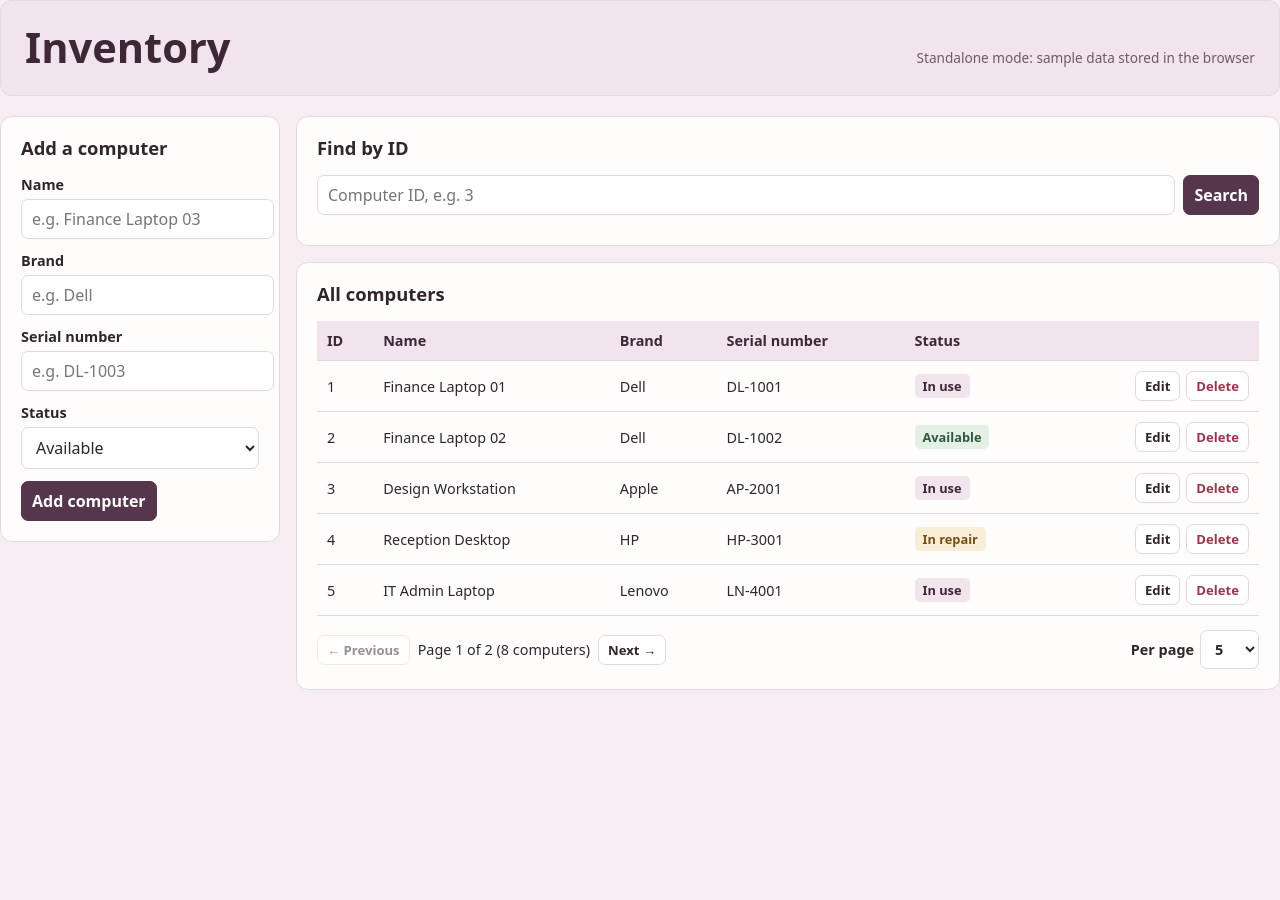
it: Inventory page (standalone mode) › goes back a page when the last item on the last page is deleted
Click the button "Next →". click: (632, 650)
box: [598,635,666,665]
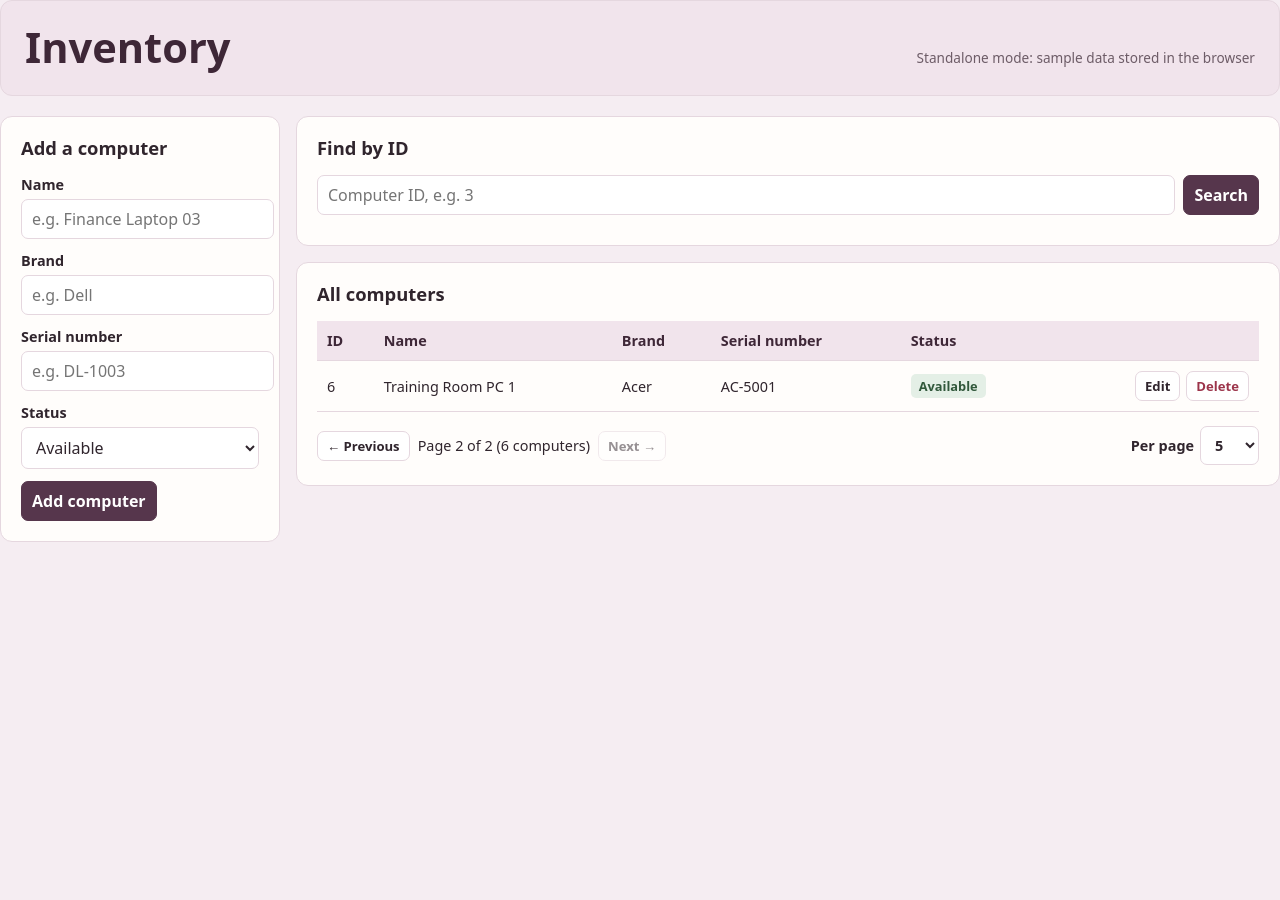
Click the button with aria-label "Delete Training Room PC 1". click: (1218, 386)
box: [1186,371,1249,401]
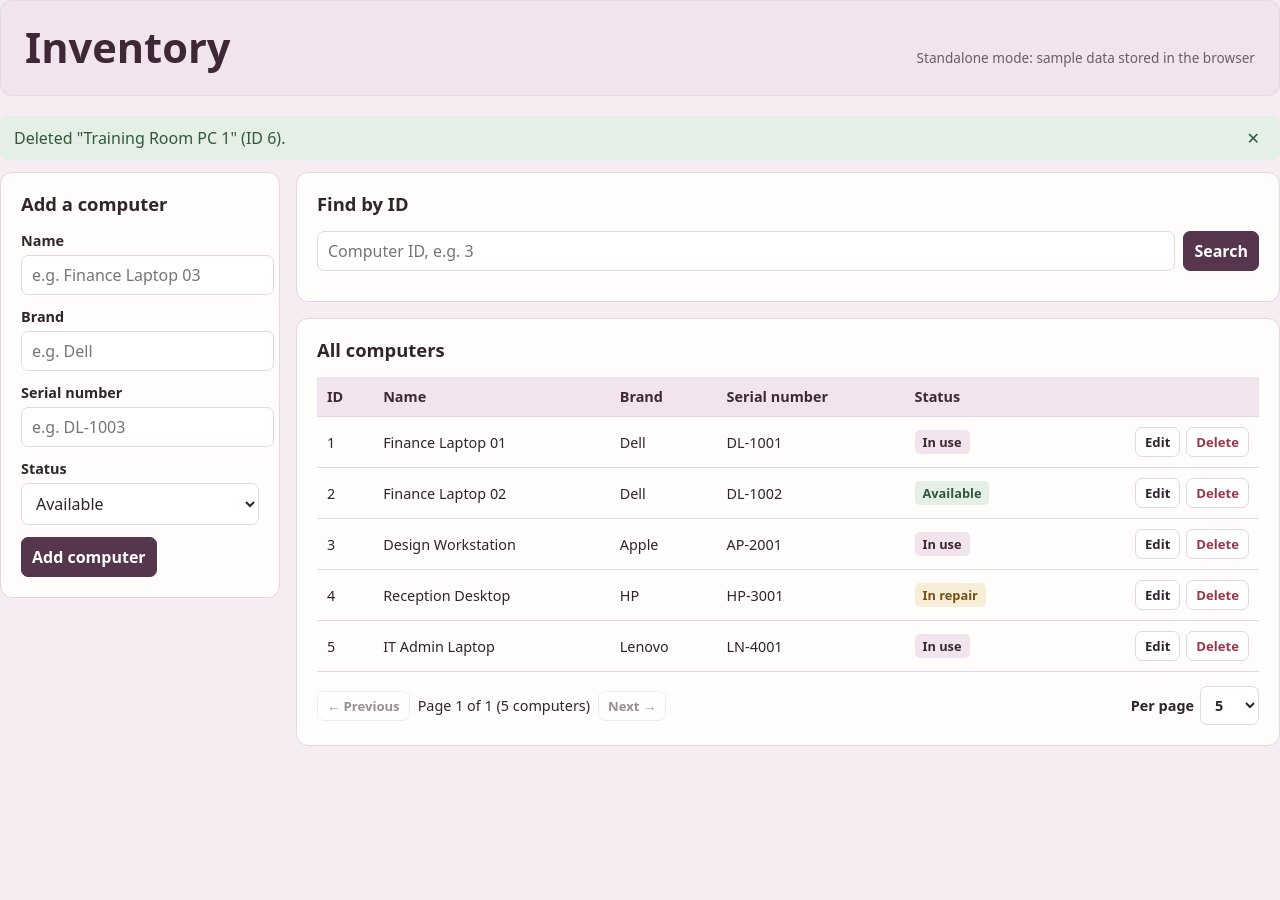
Expected: the text "Page 1 of 1 (5 computers)" is shown, [418,696,590,715]
